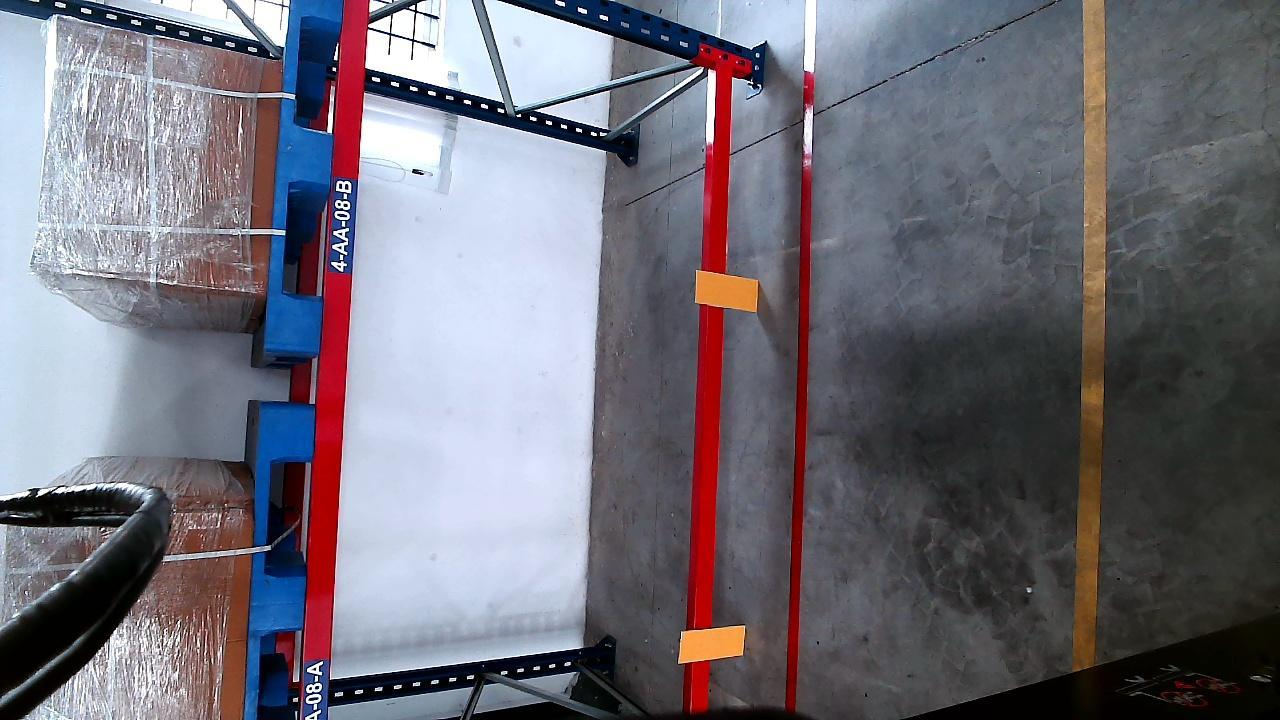red_line: (780, 1, 817, 709)
yellow_line: (1078, 0, 1105, 671)
